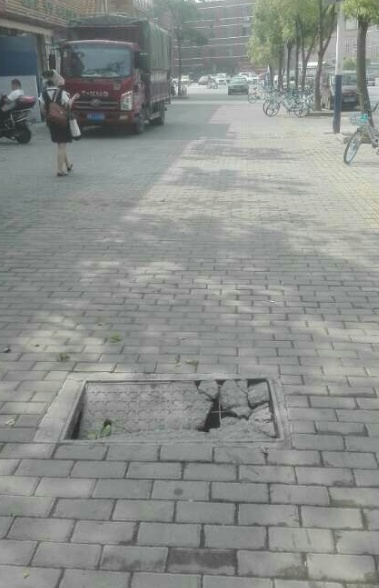broke: (59, 375, 290, 446)
